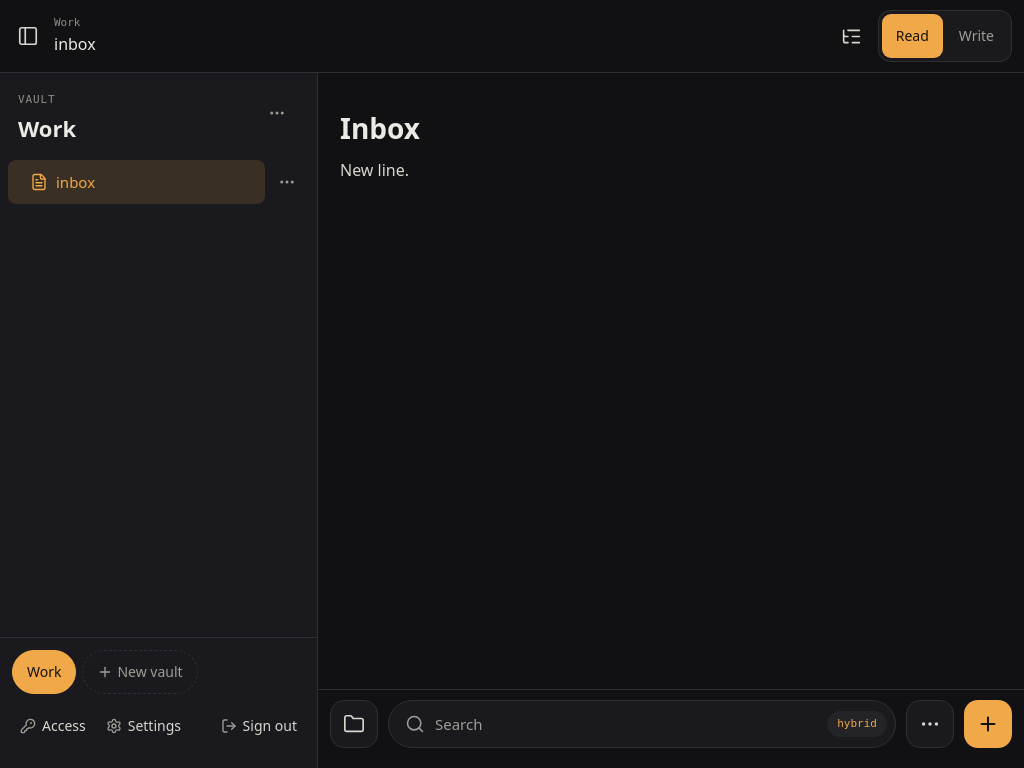
a note's history › lists the versions, shows an earlier one and its changes, and restores it
Click the button named "Note actions" at coordinates (930, 724), box 906,700 -> 954,748
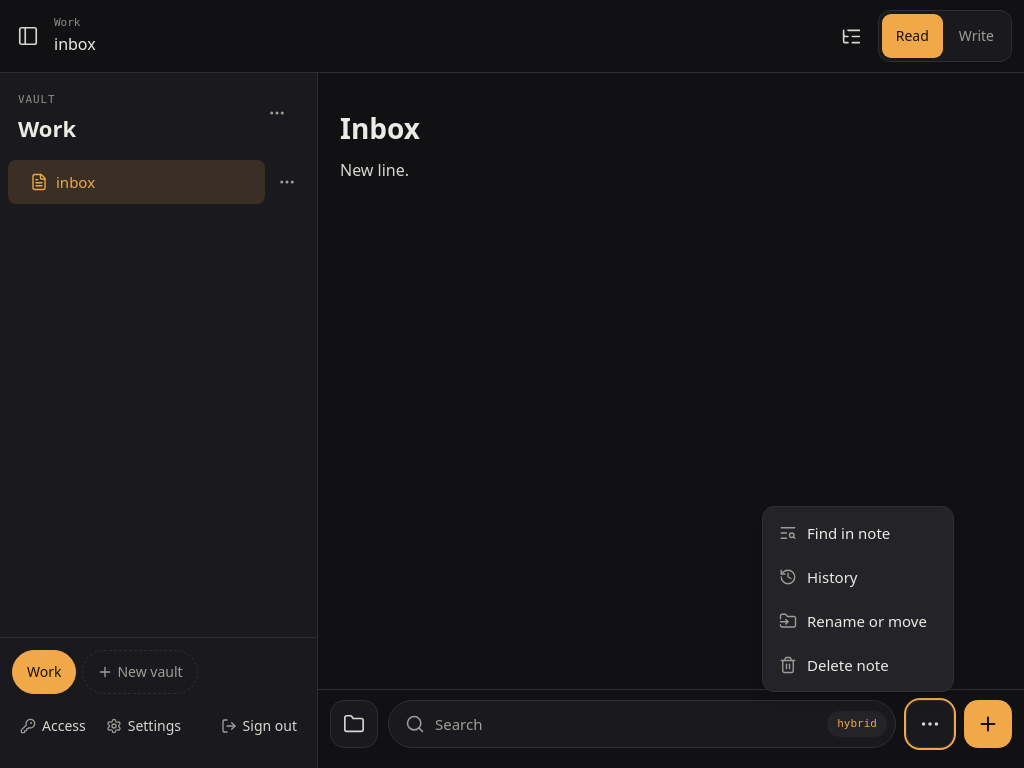
Click the menu item "History" at coordinates (858, 577), box 767,555 -> 949,599
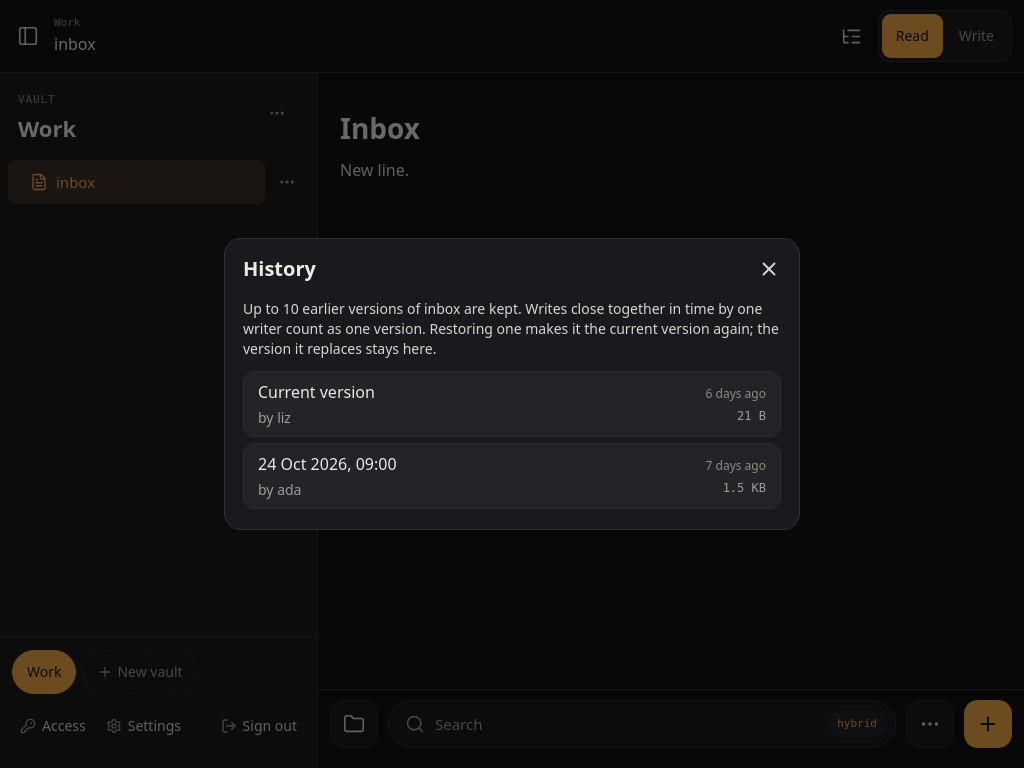
Now the button "Current version 6 days ago by liz 21 B" is shown, box 243,371 -> 781,437
Now the button "24 Oct 2026, 09:00 7 days ago by ada 1.5 KB" is shown
Click the button "24 Oct 2026, 09:00 7 days ago by ada 1.5 KB" at coordinates (327, 464), box 243,443 -> 781,509
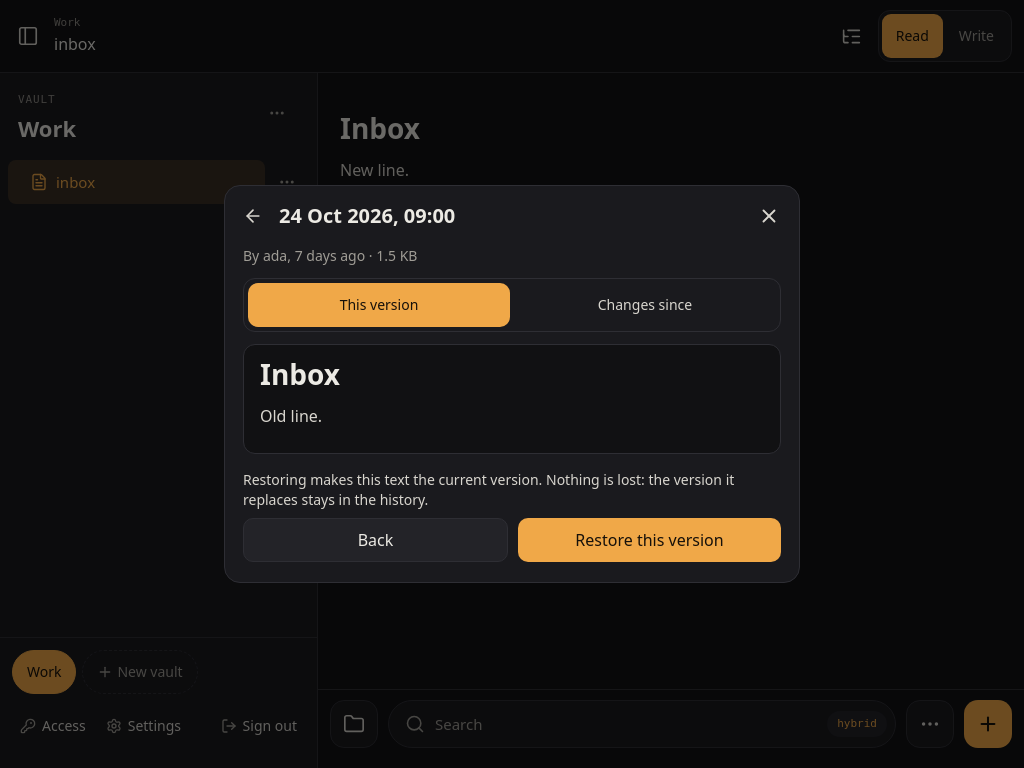
Now the text "Old line." is shown, box 260,405 -> 322,427
Click the button "Changes since" at coordinates (645, 305), box 514,283 -> 776,327
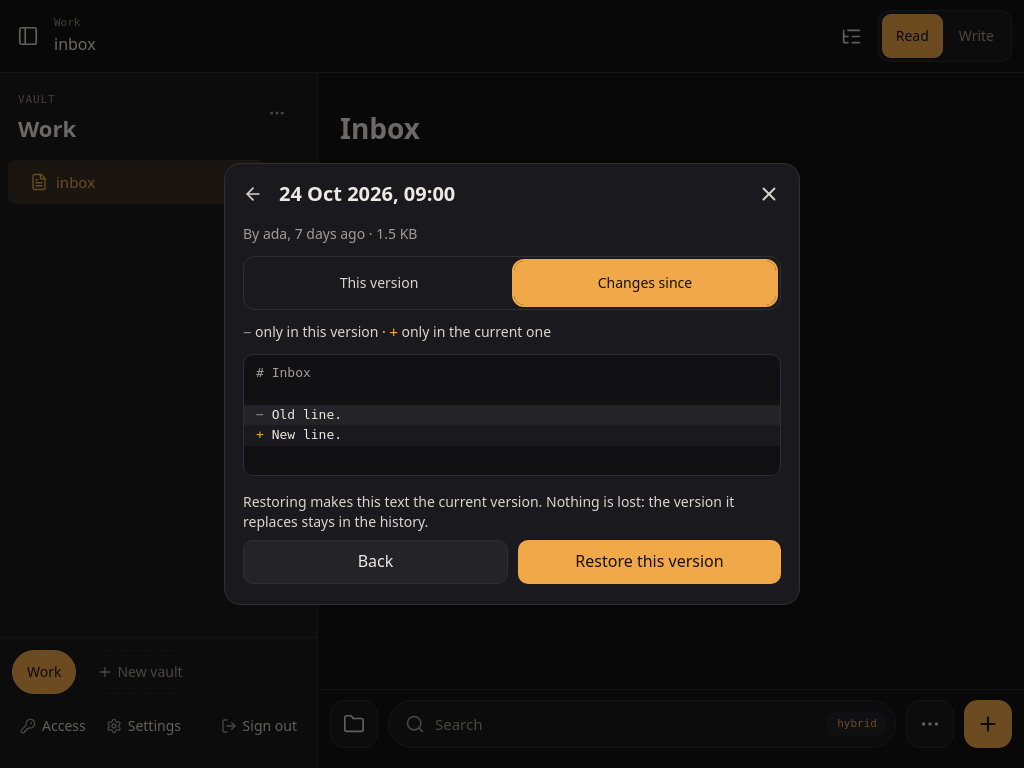
Click the button "Restore this version" at coordinates (650, 562), box 518,540 -> 781,584
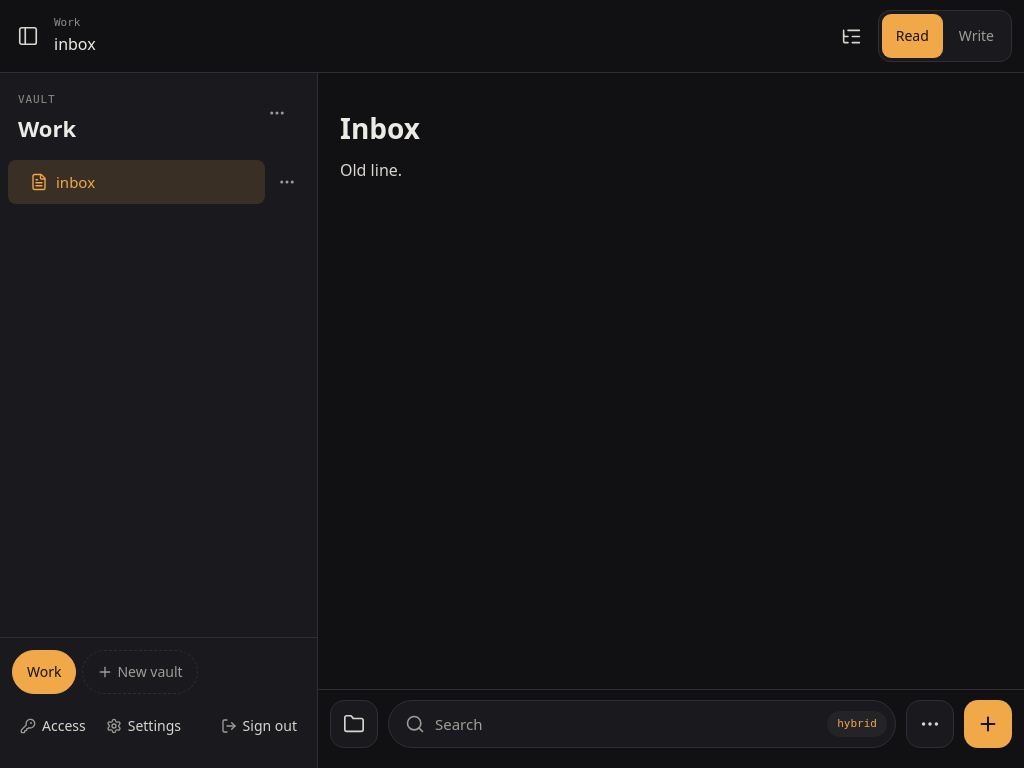
Now the dialog is gone
